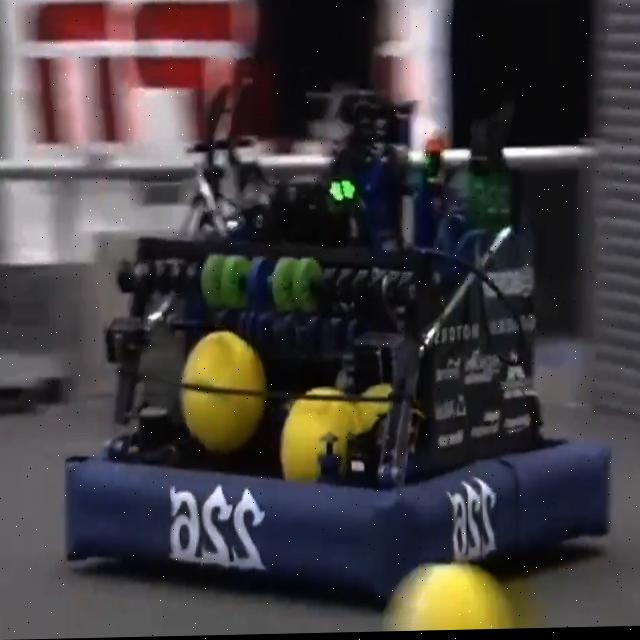robot: (63, 75, 608, 589)
